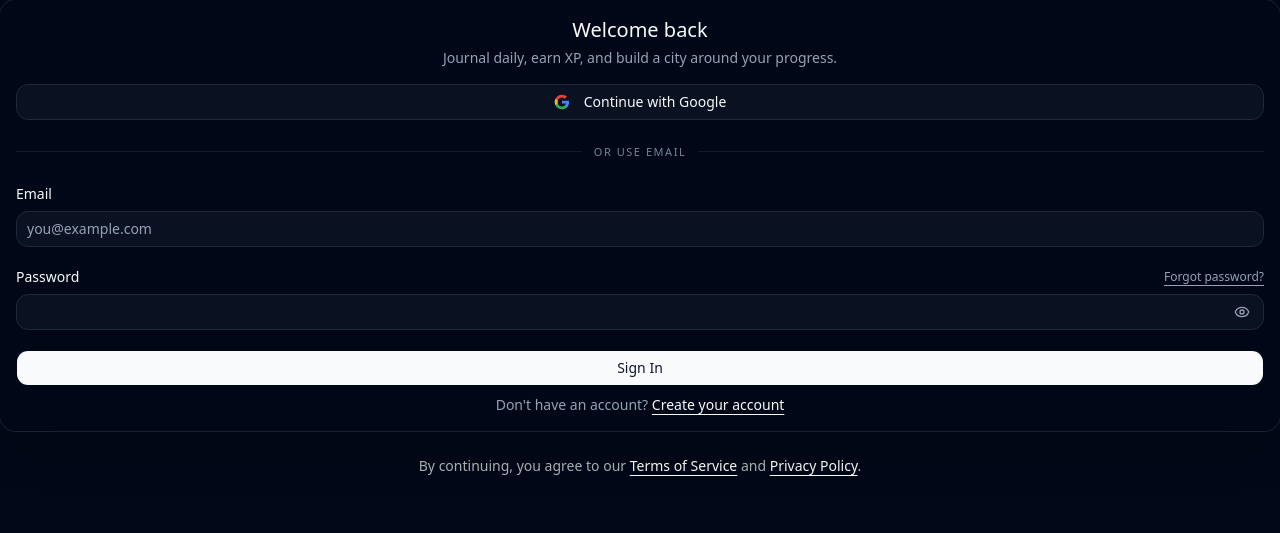
Scenario: LoginForm sign-in transition › clears loading and shows the error without navigating on failure
This screenshot has width=1280, height=533.
Type "user@example.com" into the field labelled "Email".
click(640, 229); type("user@example.com")  # box [16,211,1264,247]
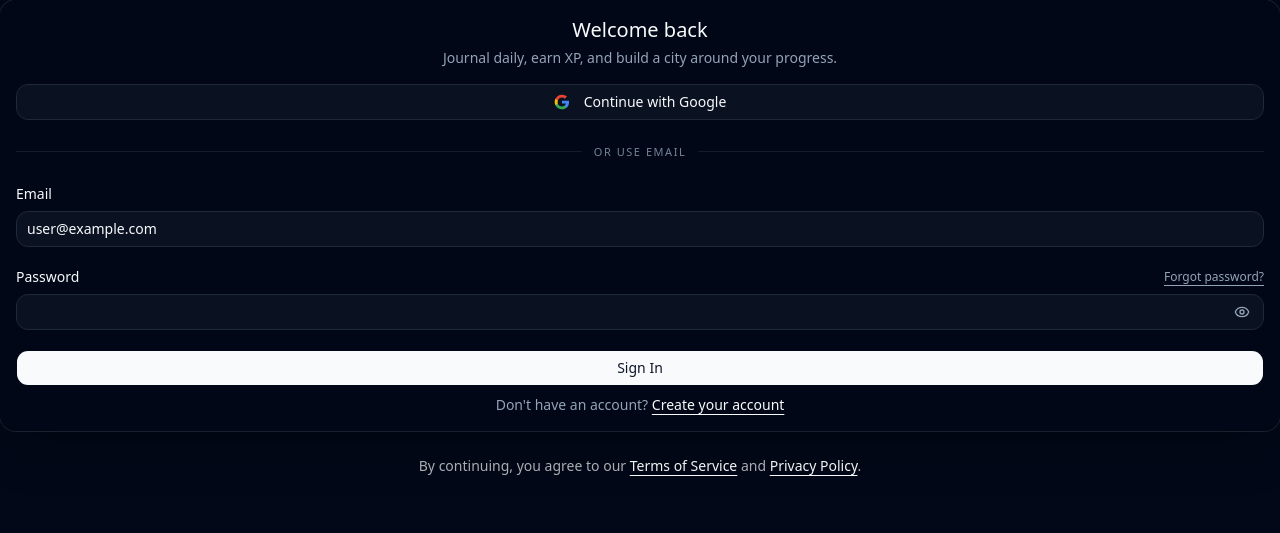
Type "correct-horse-battery-staple" into the password field labelled "Password".
click(640, 312); type("correct-horse-battery-staple")  # box [16,294,1264,330]
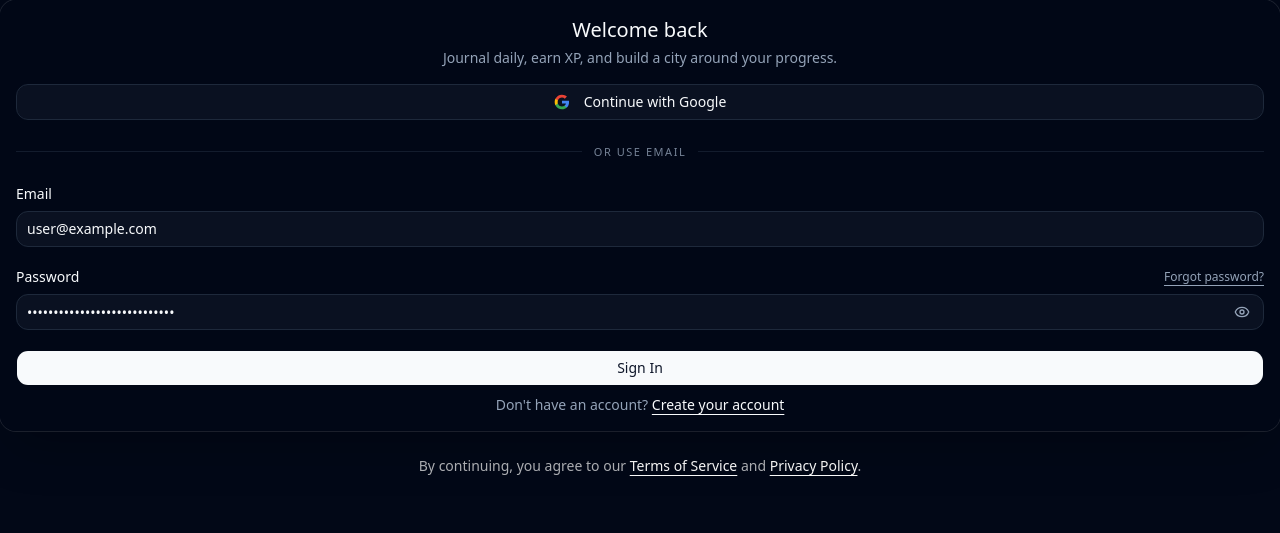
Click the button "Sign In".
click(640, 368)  # box [16,350,1264,386]
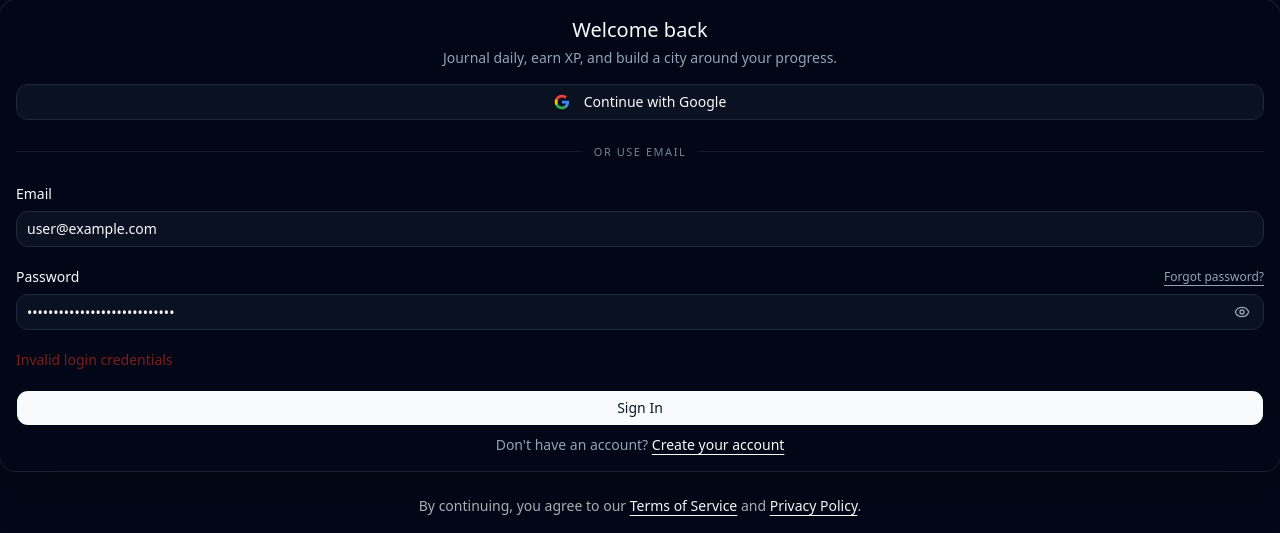
Expected: the button "Sign In" is enabled, [16,390,1264,426]
Expected: the text "Invalid login credentials" is shown, [16,350,173,369]
